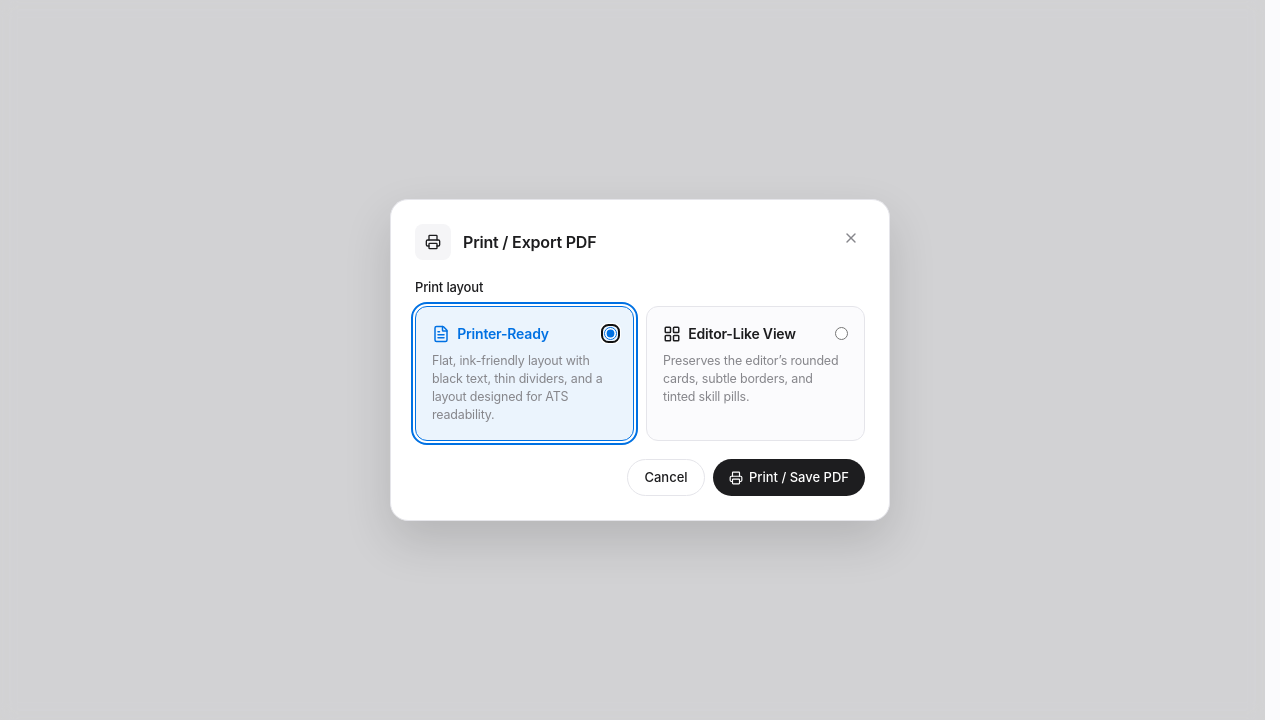
Test: PrintModal › lets user choose between Printer-Ready and Editor-Like View
Later steps or results of the test are not shown.
What coordinates should you click on to do the following:
click the radio button labelled "Editor-Like View"
I would click on:
 (842, 334)
Its box is x1=835 y1=327 x2=848 y2=340.
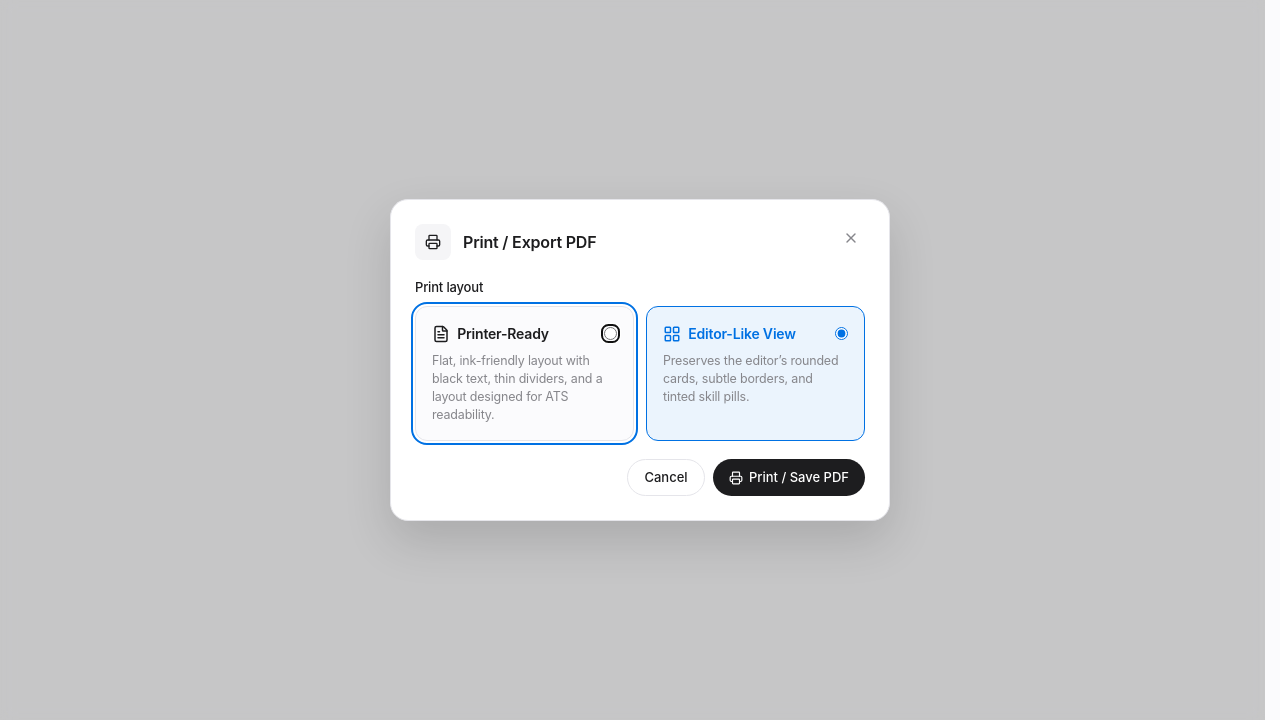
Now the radio button labelled "Editor-Like View" is checked, box x1=835 y1=327 x2=848 y2=340
